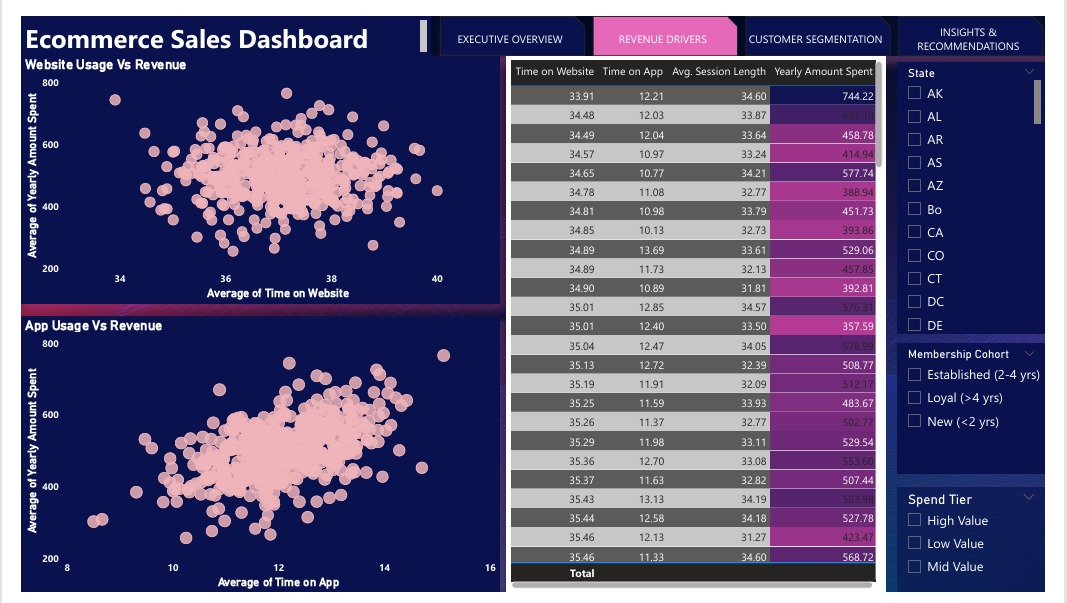

This screenshot's page, from the dashboard's own definition file:
{"tool":"powerbi","page":{"name":"REVENUE DRIVERS","canvas":[1280,720],"ordinal":1},"visuals":[{"type":"pageNavigator","box":[524.1,0,755.9,50.4],"z":0},{"type":"scatterChart","title":"App Usage Vs Revenue","fields":{"X":["Avg(enhanced_customers.Time on App)"],"Y":["Avg(enhanced_customers.Yearly Amount Spent)"],"Category":["enhanced_customers.Email"],"Size":["Sum(enhanced_customers.Avg. Session Length)"]},"box":[0,376.3,598,344.4],"z":1},{"type":"scatterChart","title":"Website Usage Vs Revenue","fields":{"X":["Avg(enhanced_customers.Time on Website)"],"Y":["Avg(enhanced_customers.Yearly Amount Spent)"],"Category":["enhanced_customers.Email"],"Size":["Sum(enhanced_customers.Avg. Session Length)"]},"box":[0,50.4,598,309.1],"z":2},{"type":"tableEx","fields":{"Values":["enhanced_customers.Time on Website","enhanced_customers.Time on App","enhanced_customers.Avg. Session Length","enhanced_customers.Yearly Amount Spent"]},"box":[606.7,50.8,475.2,669.8],"z":3},{"type":"slicer","fields":{"Values":["enhanced_customers.State"]},"box":[1095.9,57.9,184.1,340.2],"z":4},{"type":"slicer","fields":{"Values":["enhanced_customers.Membership Cohort"]},"box":[1095.9,410.3,184.1,163.1],"z":5},{"type":"slicer","fields":{"Values":["enhanced_customers.Spend Tier"]},"box":[1095.9,589.2,184.1,131.5],"z":6},{"type":"textbox","box":[0,0,512,50.8],"z":7}]}

Visuals, with their boxes in screenshot pixels (x1, y1, x2, y2), scaled from the page's 1280x720 canvas onto the 1067x603 screenshot:
pageNavigator: BBox(437, 0, 1066, 42)
"App Usage Vs Revenue" scatterChart: BBox(0, 315, 498, 602)
"Website Usage Vs Revenue" scatterChart: BBox(0, 42, 498, 301)
tableEx - enhanced_customers.Time on Website x enhanced_customers.Time on App: BBox(506, 43, 902, 602)
slicer - enhanced_customers.State: BBox(914, 48, 1066, 333)
slicer - enhanced_customers.Membership Cohort: BBox(914, 344, 1066, 480)
slicer - enhanced_customers.Spend Tier: BBox(914, 493, 1066, 602)
textbox: BBox(0, 0, 427, 43)
